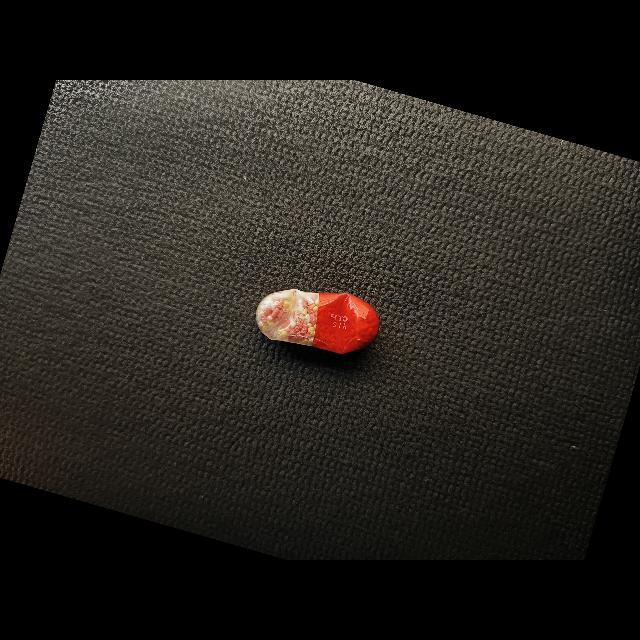Defective Capsule: (256, 289, 380, 354)
